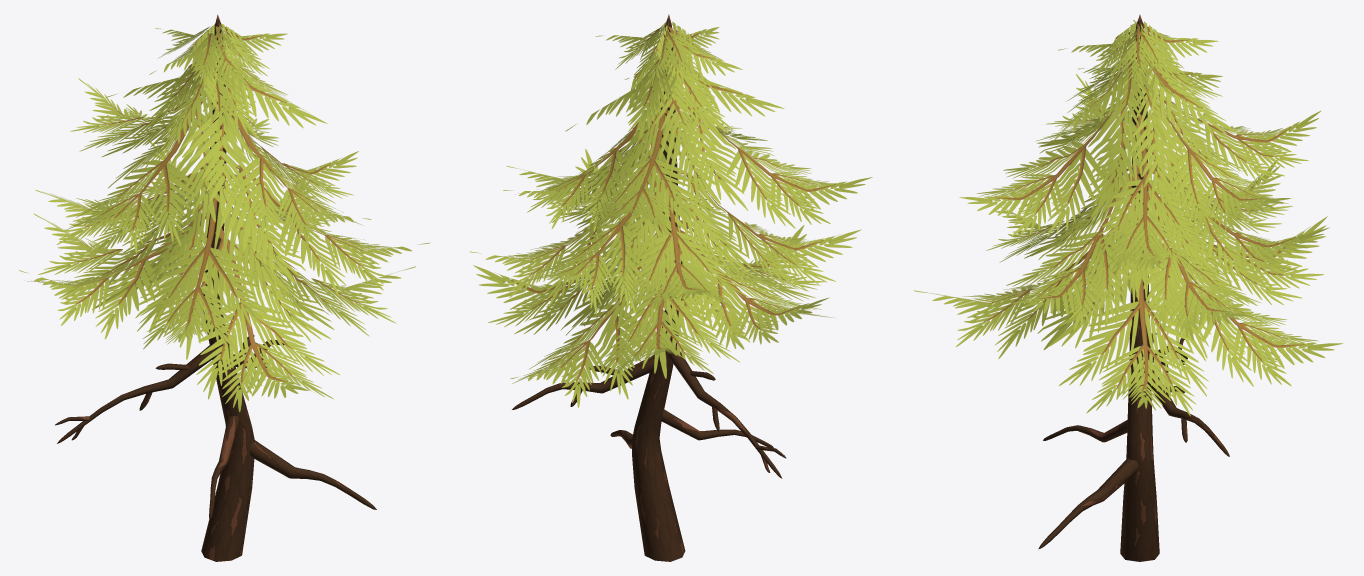
Rendered from PineTree_3.glb.
The picture shows the model from 3 angles, left to right: view 1: azimuth 30°, elevation 25°; view 2: azimuth 150°, elevation 25°; view 3: azimuth 270°, elevation 25°; orthographic projection.
Parts seen in each view (by area): view 1: PineTree_3; view 2: PineTree_3; view 3: PineTree_3.
Boxes of the visible parts, x1=… form: PineTree_3: x1=19, y1=14, x2=429, y2=561; PineTree_3: x1=469, y1=14, x2=872, y2=561; PineTree_3: x1=914, y1=14, x2=1343, y2=561.
Bounding box in the file's own units: 1.76 × 2.35 × 1.75.
Materials: 2 (2 with a texture image).
